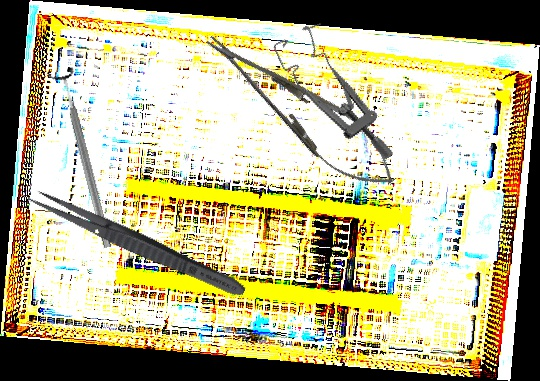Dressing Forceps: (24, 184, 250, 303)
Fixation Ring: (46, 65, 122, 252)
Needle Holder: (191, 15, 412, 205)
Speculum: (270, 14, 396, 183)
